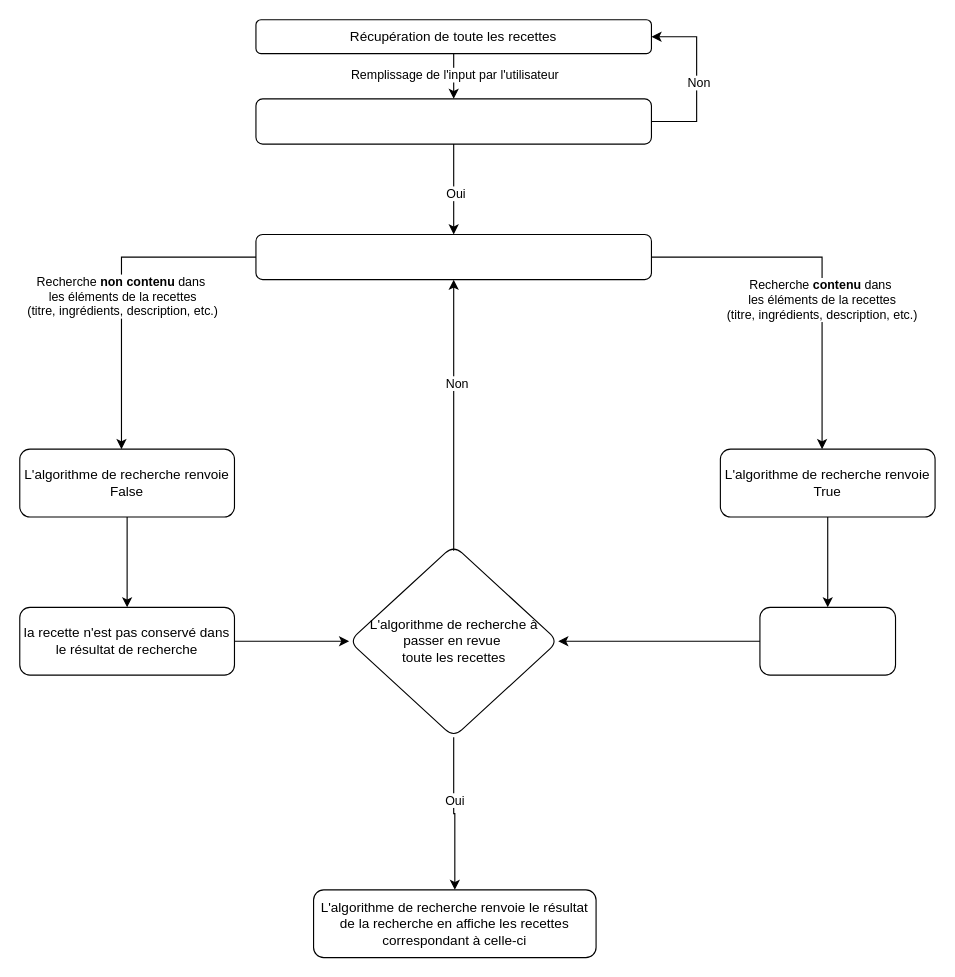
This 955x977 diagram has some shape labels left out. Here are the shapes that lost their labels. From the top down, the centre of each, then its label:
At [453,121]: "Recherche effectuer par l'utilisateur égale ou supérieur à 3 caractères".
At [453,256]: "Emploi des méthode de tris (boucle ou tableau suivant la branche utilisée)".
At [827,640]: "la recette est conservé dans le résultat de recherche".
